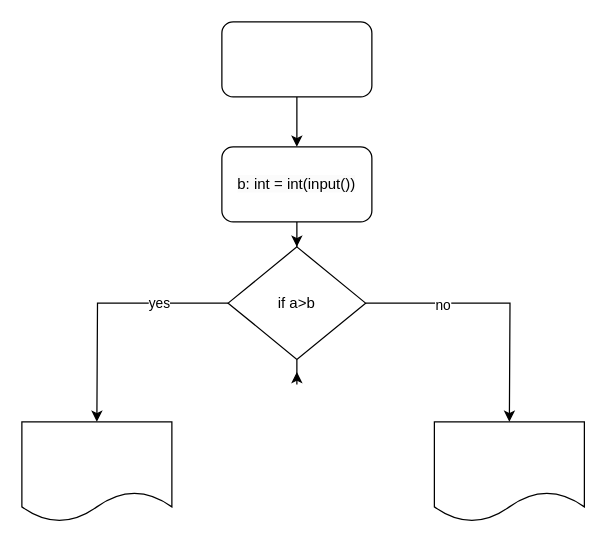
Image size: 606x544. Some labels were removed from this diagram. Each missing label, with the centre of its shape:
a: int = int(input()): point 296,59
print(a): point 96,471
